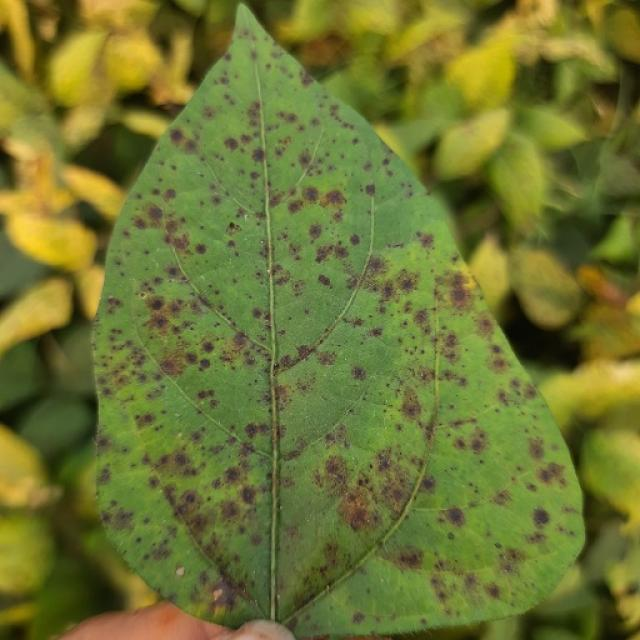Anthracnose: (149, 443, 260, 588), (311, 428, 427, 543), (141, 291, 249, 401), (275, 181, 354, 253), (363, 259, 432, 318), (142, 297, 190, 344), (391, 384, 436, 431), (441, 267, 476, 307), (341, 494, 375, 533), (208, 577, 242, 615), (398, 388, 423, 421), (157, 353, 187, 379), (314, 242, 340, 265), (443, 506, 466, 528), (526, 437, 546, 462), (322, 188, 345, 208), (292, 343, 315, 363), (148, 312, 169, 331), (243, 421, 263, 440), (531, 507, 551, 526), (145, 204, 164, 223), (240, 485, 257, 505), (104, 295, 122, 312), (485, 582, 502, 600), (316, 350, 335, 366), (302, 187, 319, 203), (420, 474, 436, 491), (169, 128, 185, 145), (307, 223, 323, 239), (223, 137, 240, 151), (351, 366, 366, 380), (148, 298, 164, 311), (226, 221, 240, 235), (252, 148, 265, 163), (317, 274, 332, 287), (201, 341, 215, 354), (352, 612, 365, 625), (349, 233, 361, 247), (365, 183, 376, 196), (447, 531, 455, 540), (494, 541, 502, 549)
Blackgram: (94, 8, 581, 635)
